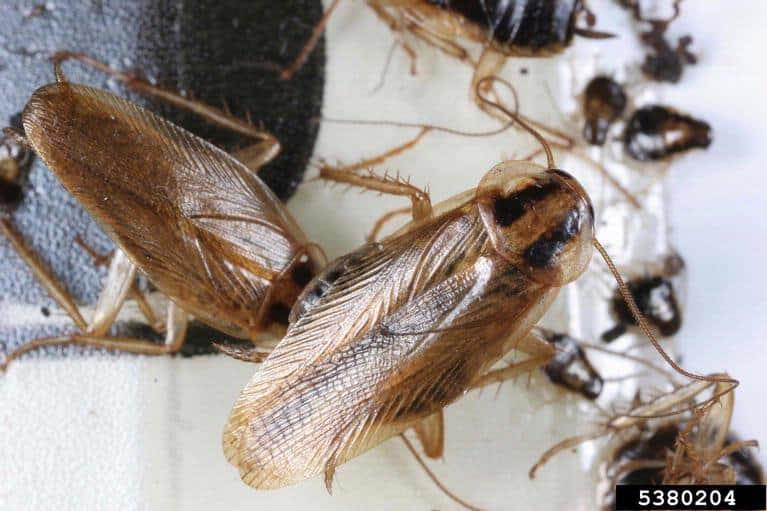cockroach: (222, 157, 600, 495), (21, 80, 344, 356), (532, 324, 606, 400), (623, 102, 712, 162), (610, 268, 682, 340), (572, 70, 626, 150)
